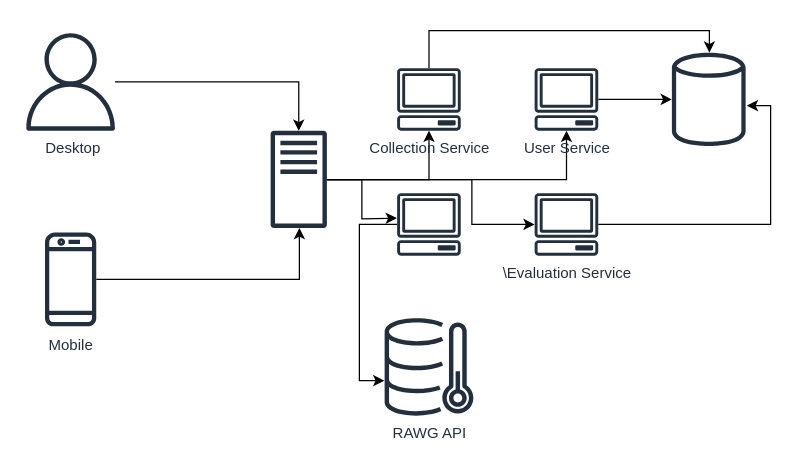
This 803x464 diagram has some shape labels left out. Here are the shapes that lost their labels. From the top down, the box of each, then its label:
(671, 50, 745, 148): MongoDB Atlas
(270, 130, 326, 228): API Gateway
(396, 192, 460, 255): Game Service
